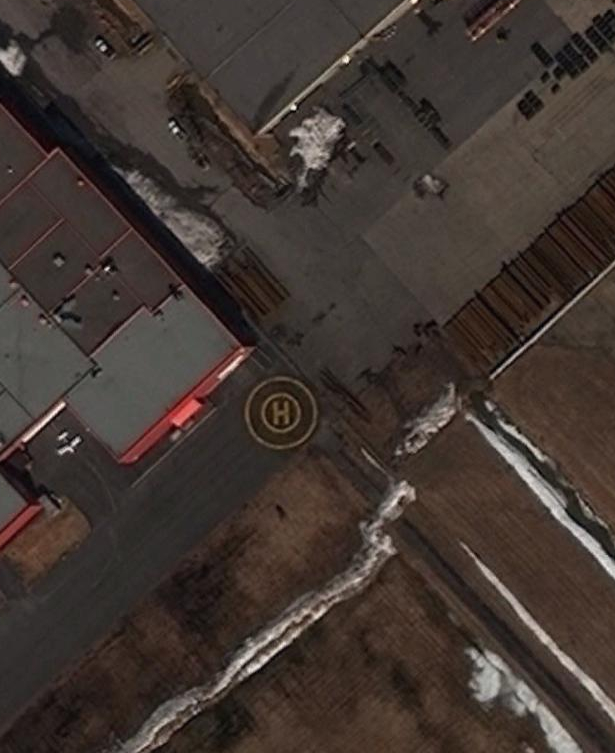heliport: (270, 398, 291, 426)
